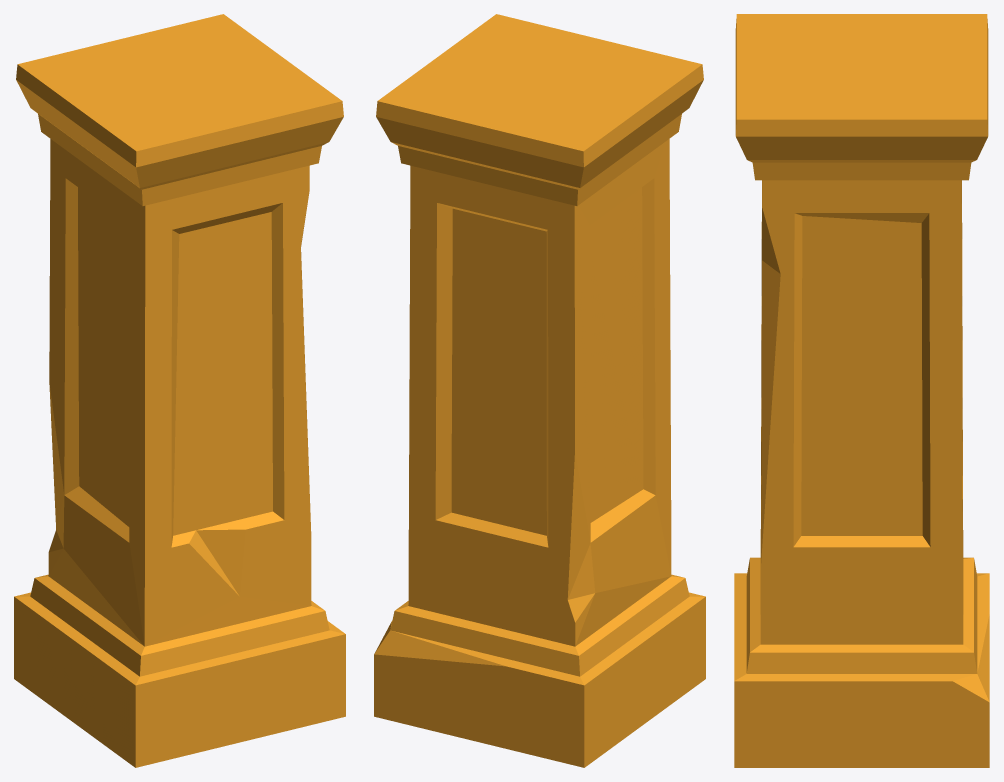
File: SM_Railing_Stone_Post_A_Fantasy.fbx
The picture shows the model from 3 angles, left to right: view 1: azimuth 30°, elevation 25°; view 2: azimuth 150°, elevation 25°; view 3: azimuth 270°, elevation 25°; orthographic projection. The views are drawn at different scales.
Parts seen in each view (by area): view 1: SM_Railing_Stone_Post_A_Fantasy; view 2: SM_Railing_Stone_Post_A_Fantasy; view 3: SM_Railing_Stone_Post_A_Fantasy.
Boxes of the visible parts, box(x1,y1,x2,y2) form: SM_Railing_Stone_Post_A_Fantasy: box(14, 14, 345, 767); SM_Railing_Stone_Post_A_Fantasy: box(374, 14, 705, 767); SM_Railing_Stone_Post_A_Fantasy: box(734, 14, 989, 767).
Size of the model in its own units: 0.4 by 1.12 by 0.4.
